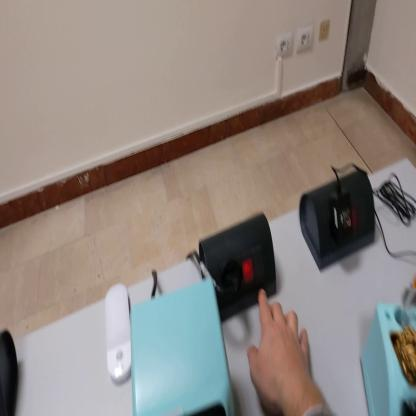hand: (248, 288, 313, 407)
socket: (200, 212, 279, 321), (301, 172, 378, 272)
welder base: (361, 308, 415, 416)
welder station: (132, 278, 235, 415)
